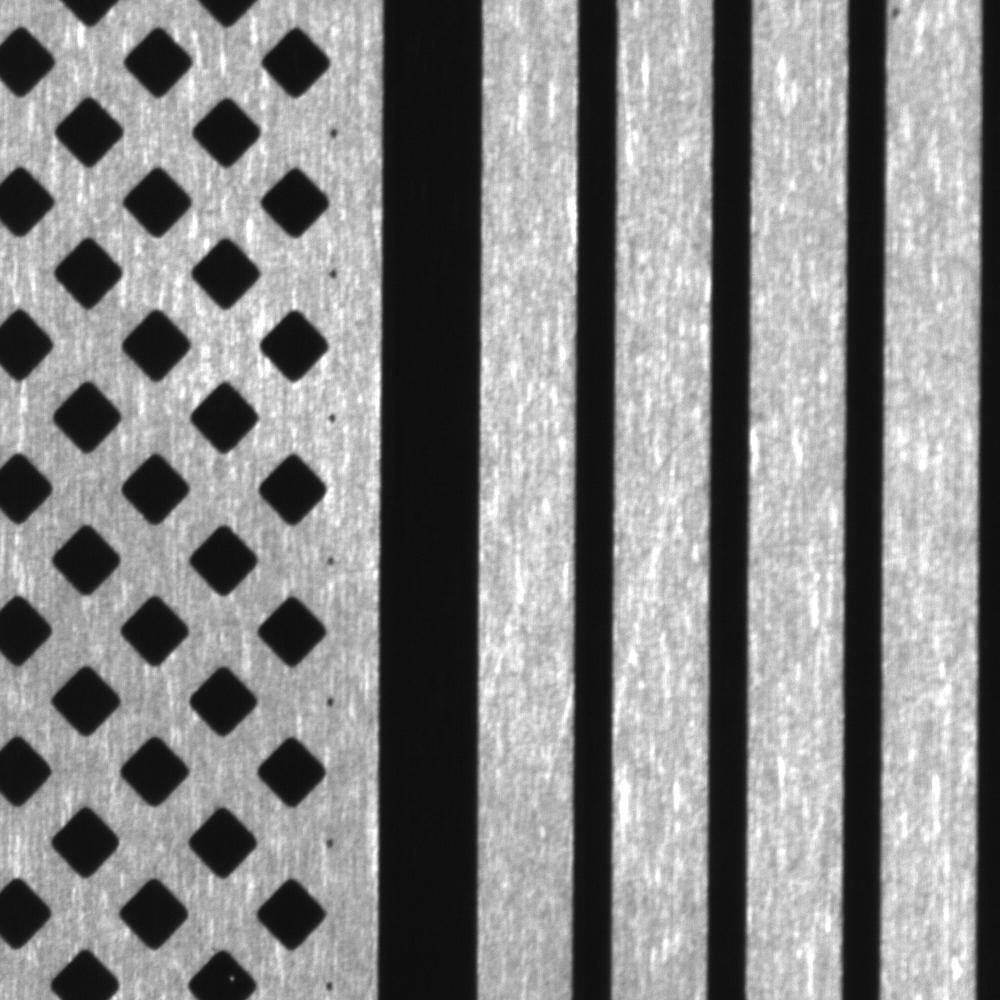Scar: (645, 404, 706, 489)
